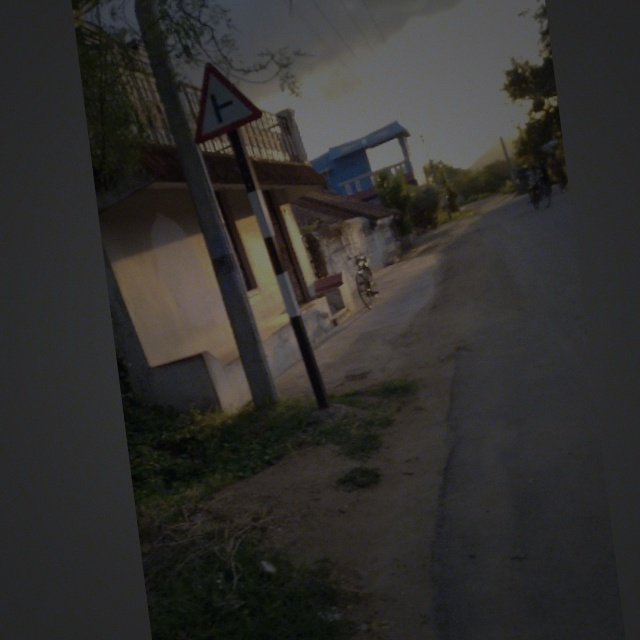Side_Road_Right: (180, 55, 275, 142)
